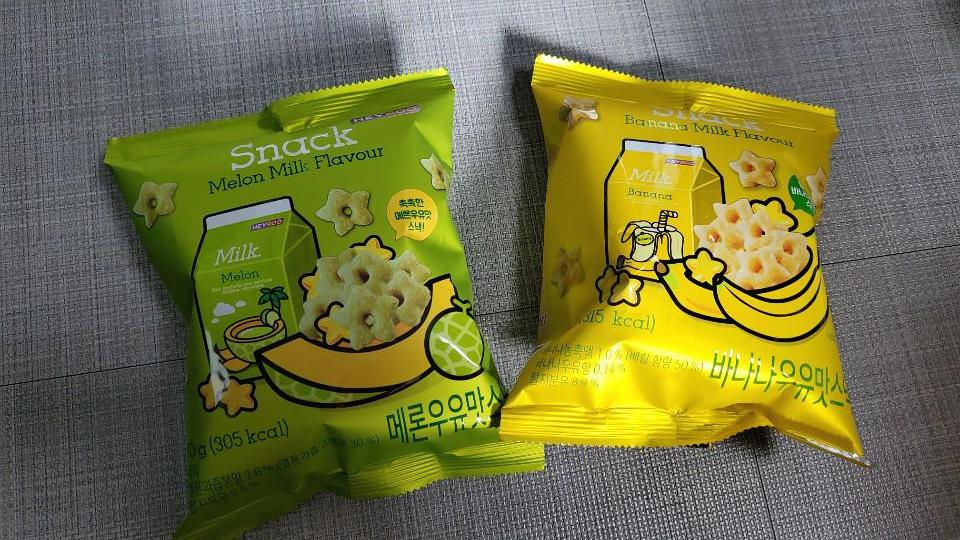snack: (104, 63, 549, 540), (498, 53, 867, 462)
